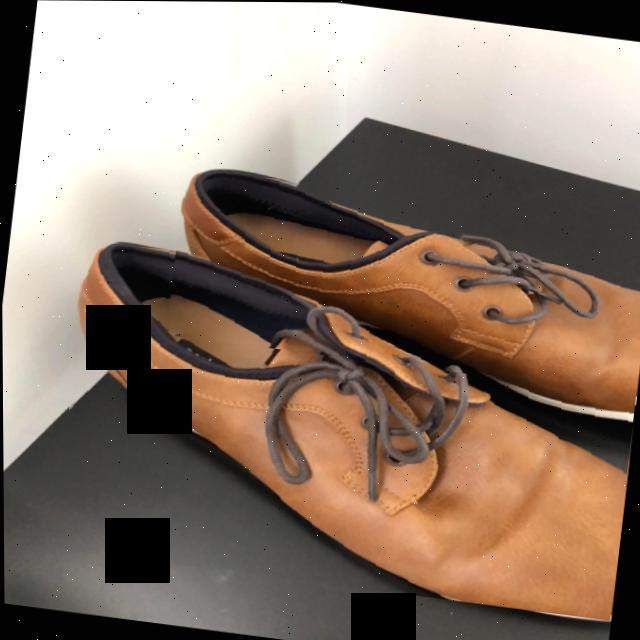shoe: (78, 243, 619, 620), (180, 170, 635, 394)
